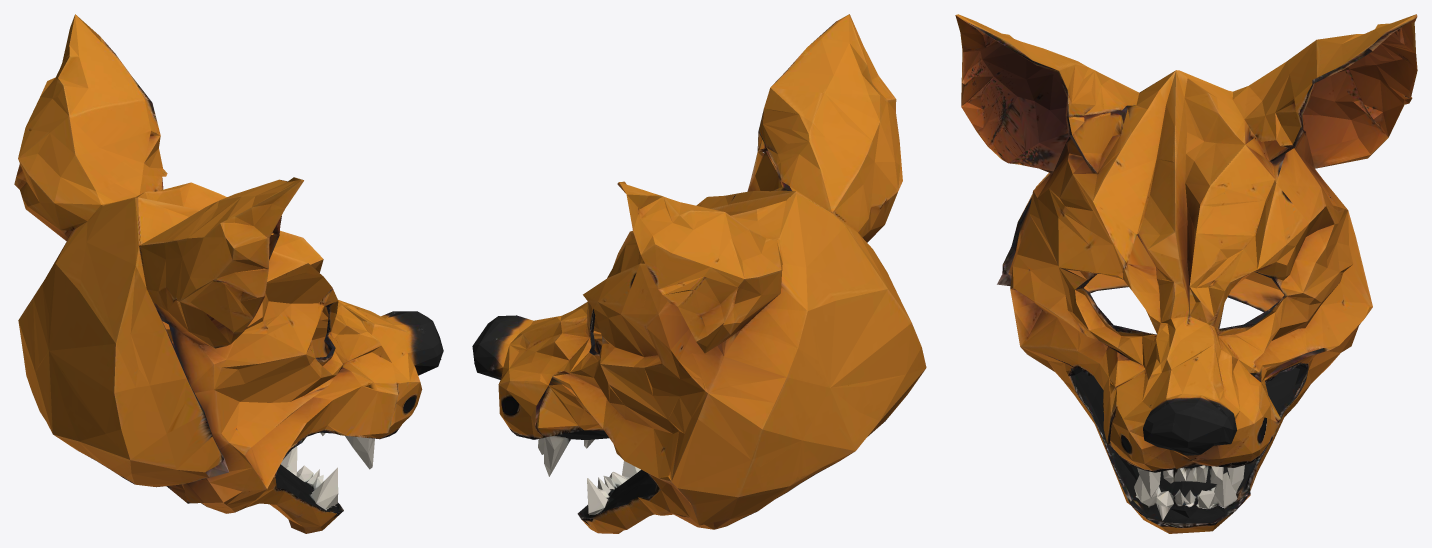
File: hyena.glb
3 renders of one model, left to right at view 1: azimuth 30°, elevation 25°; view 2: azimuth 150°, elevation 25°; view 3: azimuth 270°, elevation 25°, orthographic.
Parts seen in each view (by area): view 1: tripo_node_165eda76-5d02-46e4-8bb8-f73b1323a006; view 2: tripo_node_165eda76-5d02-46e4-8bb8-f73b1323a006; view 3: tripo_node_165eda76-5d02-46e4-8bb8-f73b1323a006.
Part boxes in pixels (bbox=[...]): tripo_node_165eda76-5d02-46e4-8bb8-f73b1323a006: bbox=[14, 14, 443, 533]; tripo_node_165eda76-5d02-46e4-8bb8-f73b1323a006: bbox=[472, 14, 926, 533]; tripo_node_165eda76-5d02-46e4-8bb8-f73b1323a006: bbox=[955, 14, 1417, 533].
Size of the model in its own units: 0.871 by 1 by 0.9158.
1 material, 1 textured.
